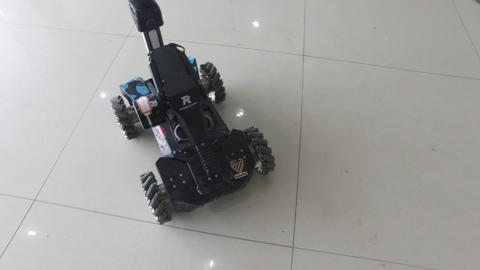chariot: (96, 11, 274, 229)
